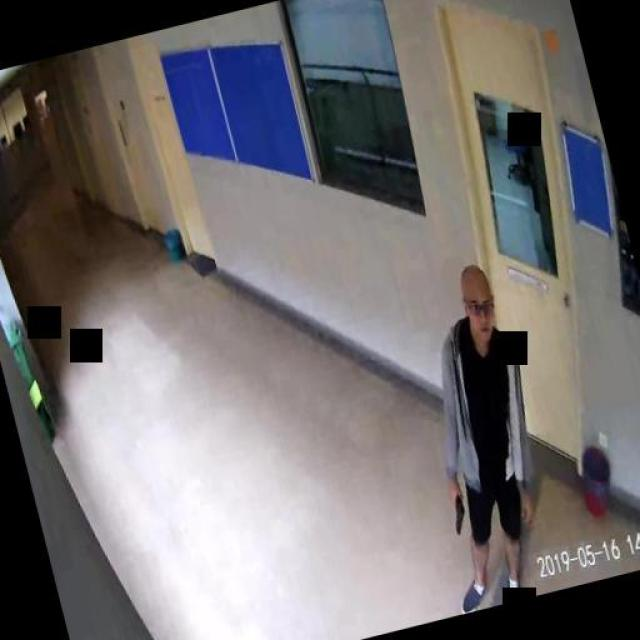gun: (445, 487, 469, 532)
